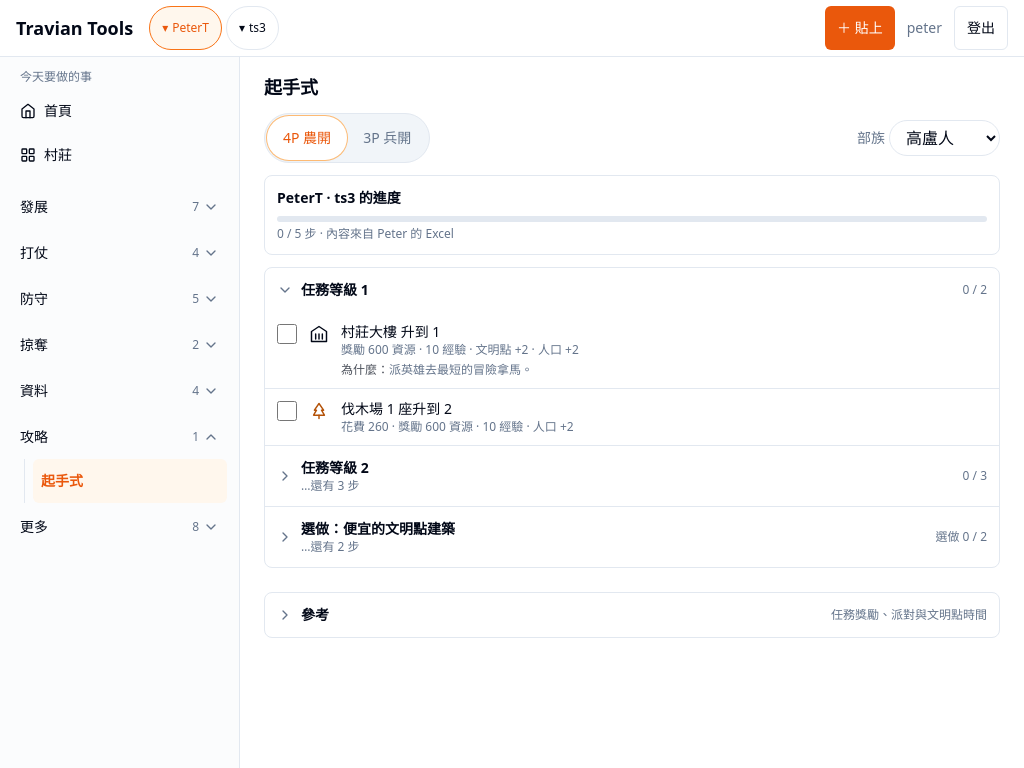
Test: 起手式清單 (P0-10) › switching account loads that account + world progress and its tribe
Expected: the checkbox named "完成：村莊大樓 升到 1" is shown, [277,324,297,344]
Click the button with aria-label "目前世界：ts3" at (252, 28), box [226,6,279,50]
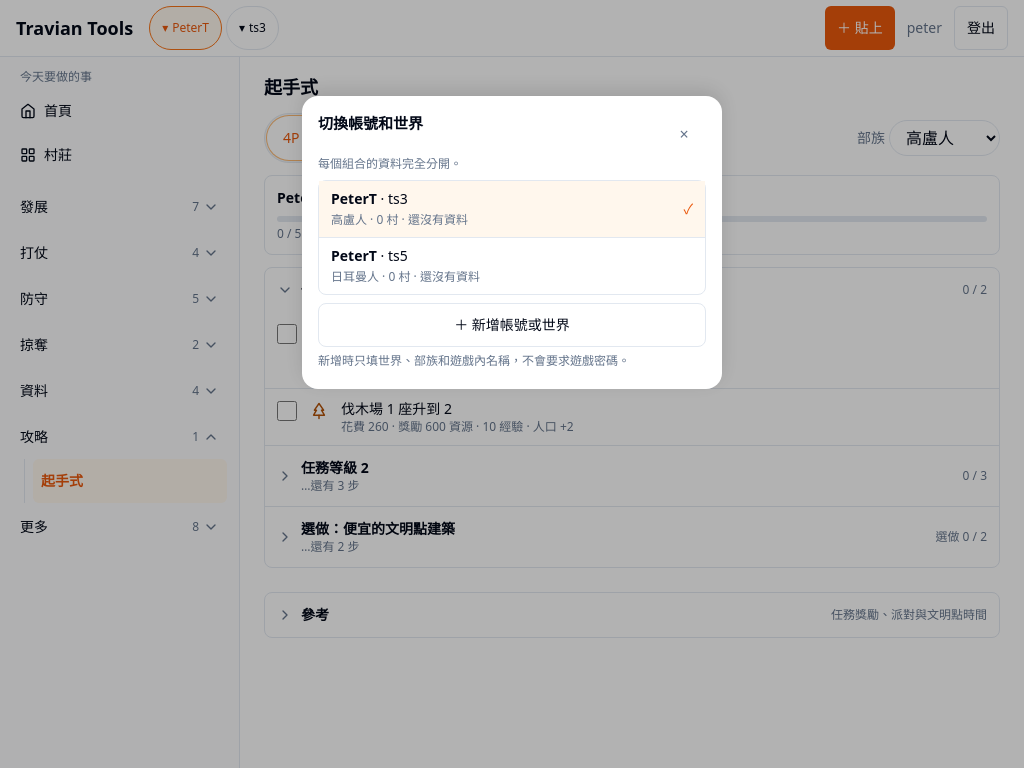
Click the text "日耳曼人 · 0 村 · 還沒有資料" at (405, 276), box [331,268,480,285]
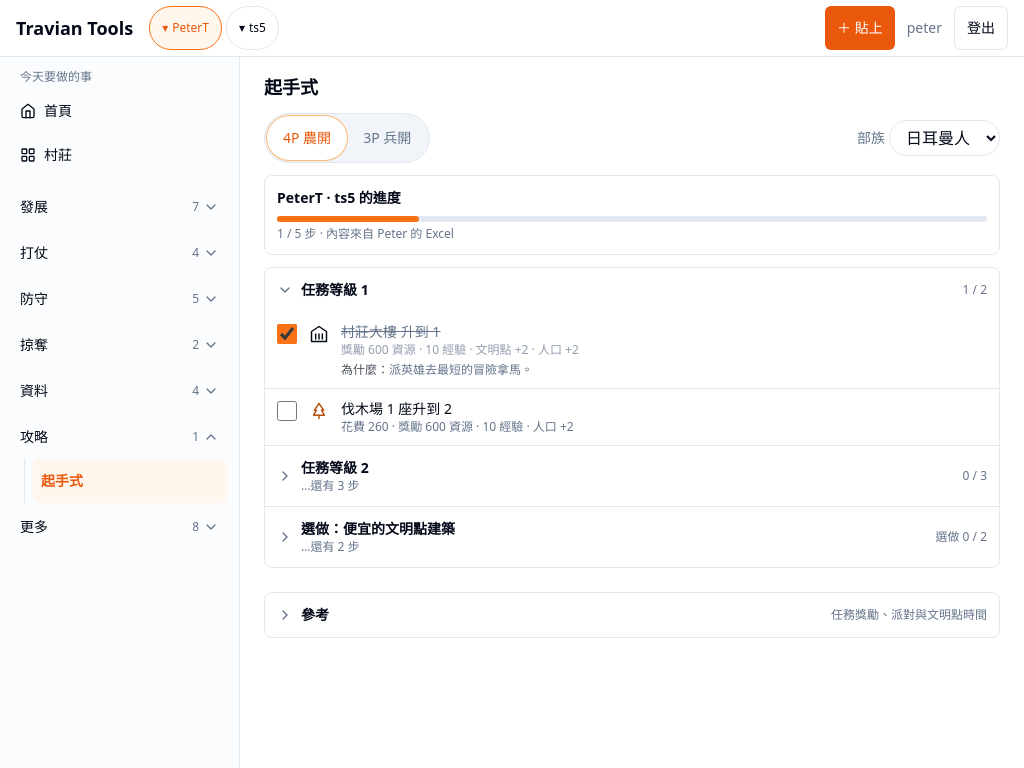
Result: the text "1 / 5 步 · 內容來自 Peter 的 Excel" is shown at [277,225,454,242]
Result: the dropdown labelled "部族" shows "日耳曼人" at [889,120,1000,156]
Result: the text "PeterT · ts5 的進度" is shown at [277,188,401,207]
